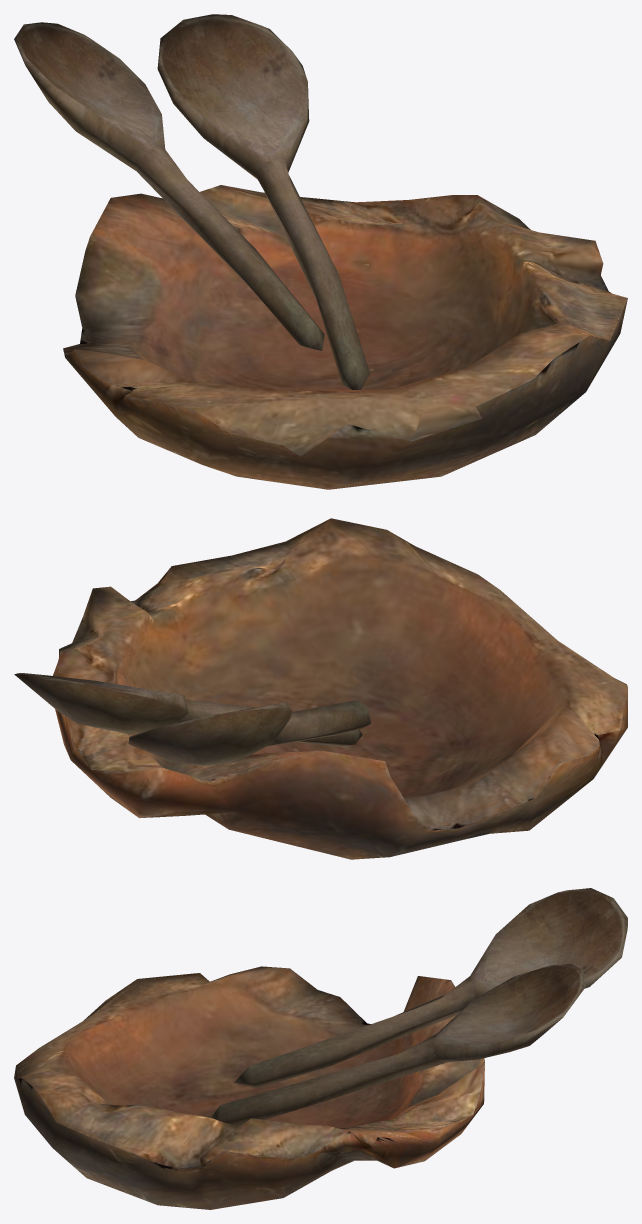
The model's file is SpoonBowl.glb.
3 views of the same model, one above another, from view 1: azimuth 30°, elevation 25°; view 2: azimuth 150°, elevation 25°; view 3: azimuth 270°, elevation 25° (orthographic). The views are drawn at different scales.
Visible parts, largest first — view 1: SpoonBowl; view 2: SpoonBowl; view 3: SpoonBowl.
Part boxes in pixels (x1,y1,x2,y2): SpoonBowl: (14, 14, 627, 489); SpoonBowl: (14, 518, 627, 859); SpoonBowl: (14, 888, 627, 1209).
Bounding box in the file's own units: 0.3147 × 0.1559 × 0.4018.
2 materials, 2 textured.
